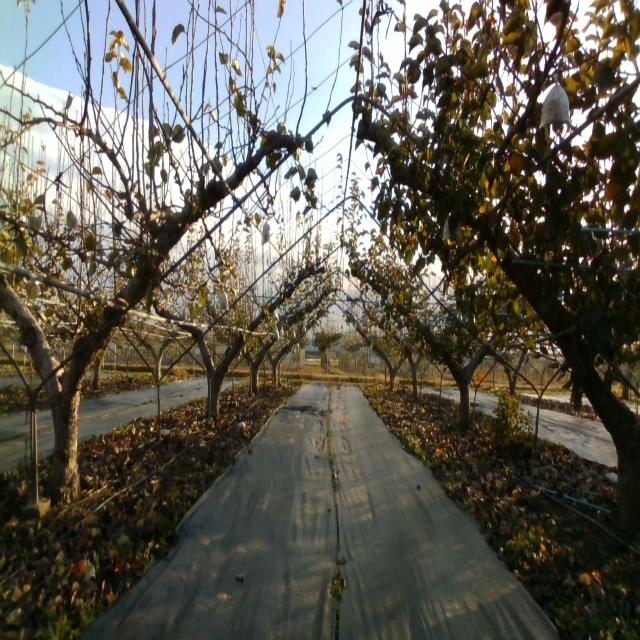pearbags: (539, 72, 573, 128), (218, 286, 229, 311)
